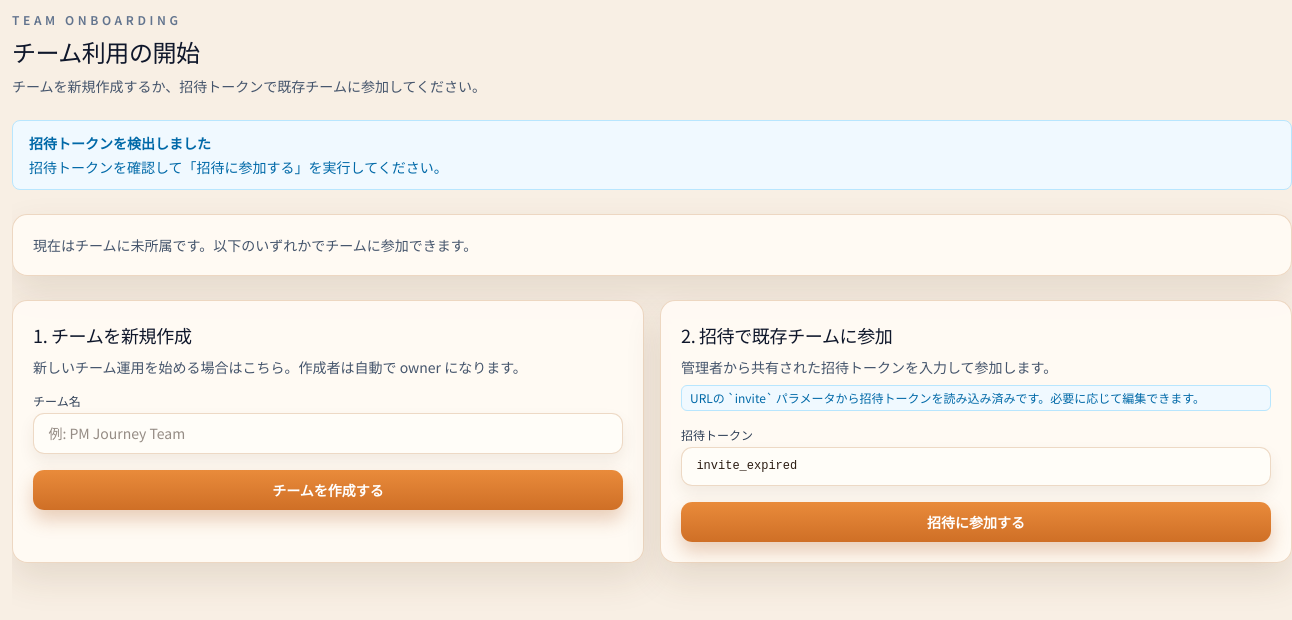
Test: TeamOnboardingPage › shows dedicated expired invitation messaging
The width and height of the screenshot is (1292, 620).
Step 1. Click the button "招待に参加する" → point(976, 522), box [681, 502, 1271, 542]
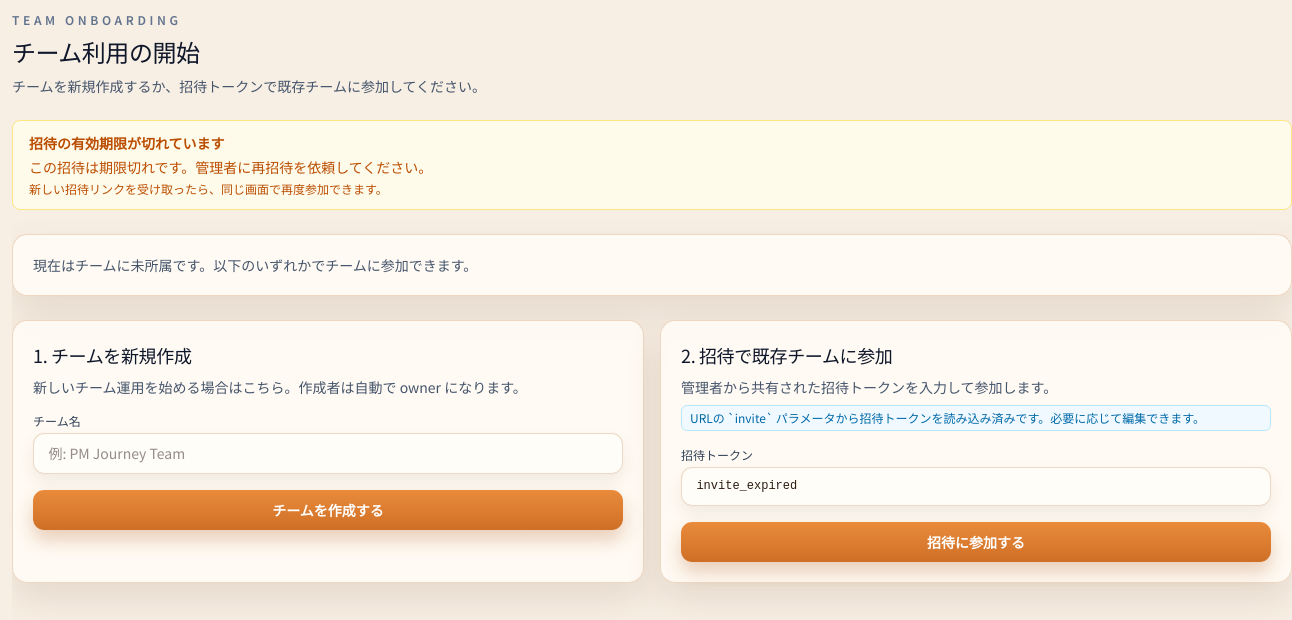
expect the text "招待の有効期限が切れています" is shown: met, box [29, 133, 225, 153]
expect the text "この招待は期限切れです。管理者に再招待を依頼してください。" is shown: met, box [29, 157, 432, 177]
